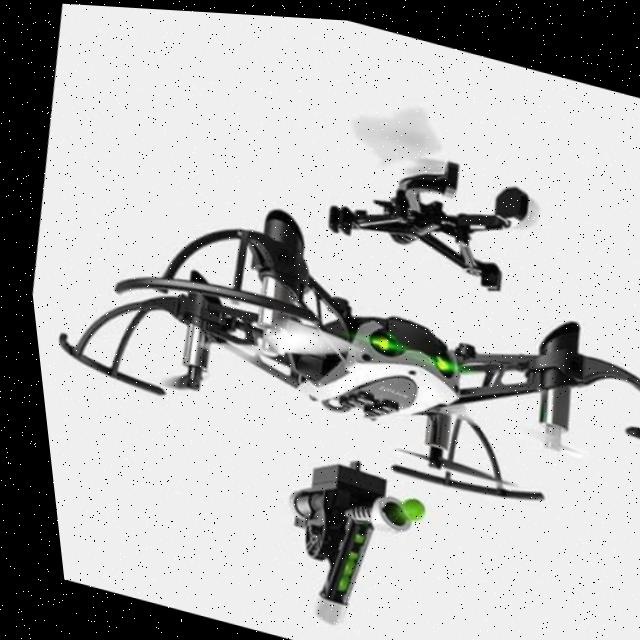drones: (20, 145, 640, 554)
